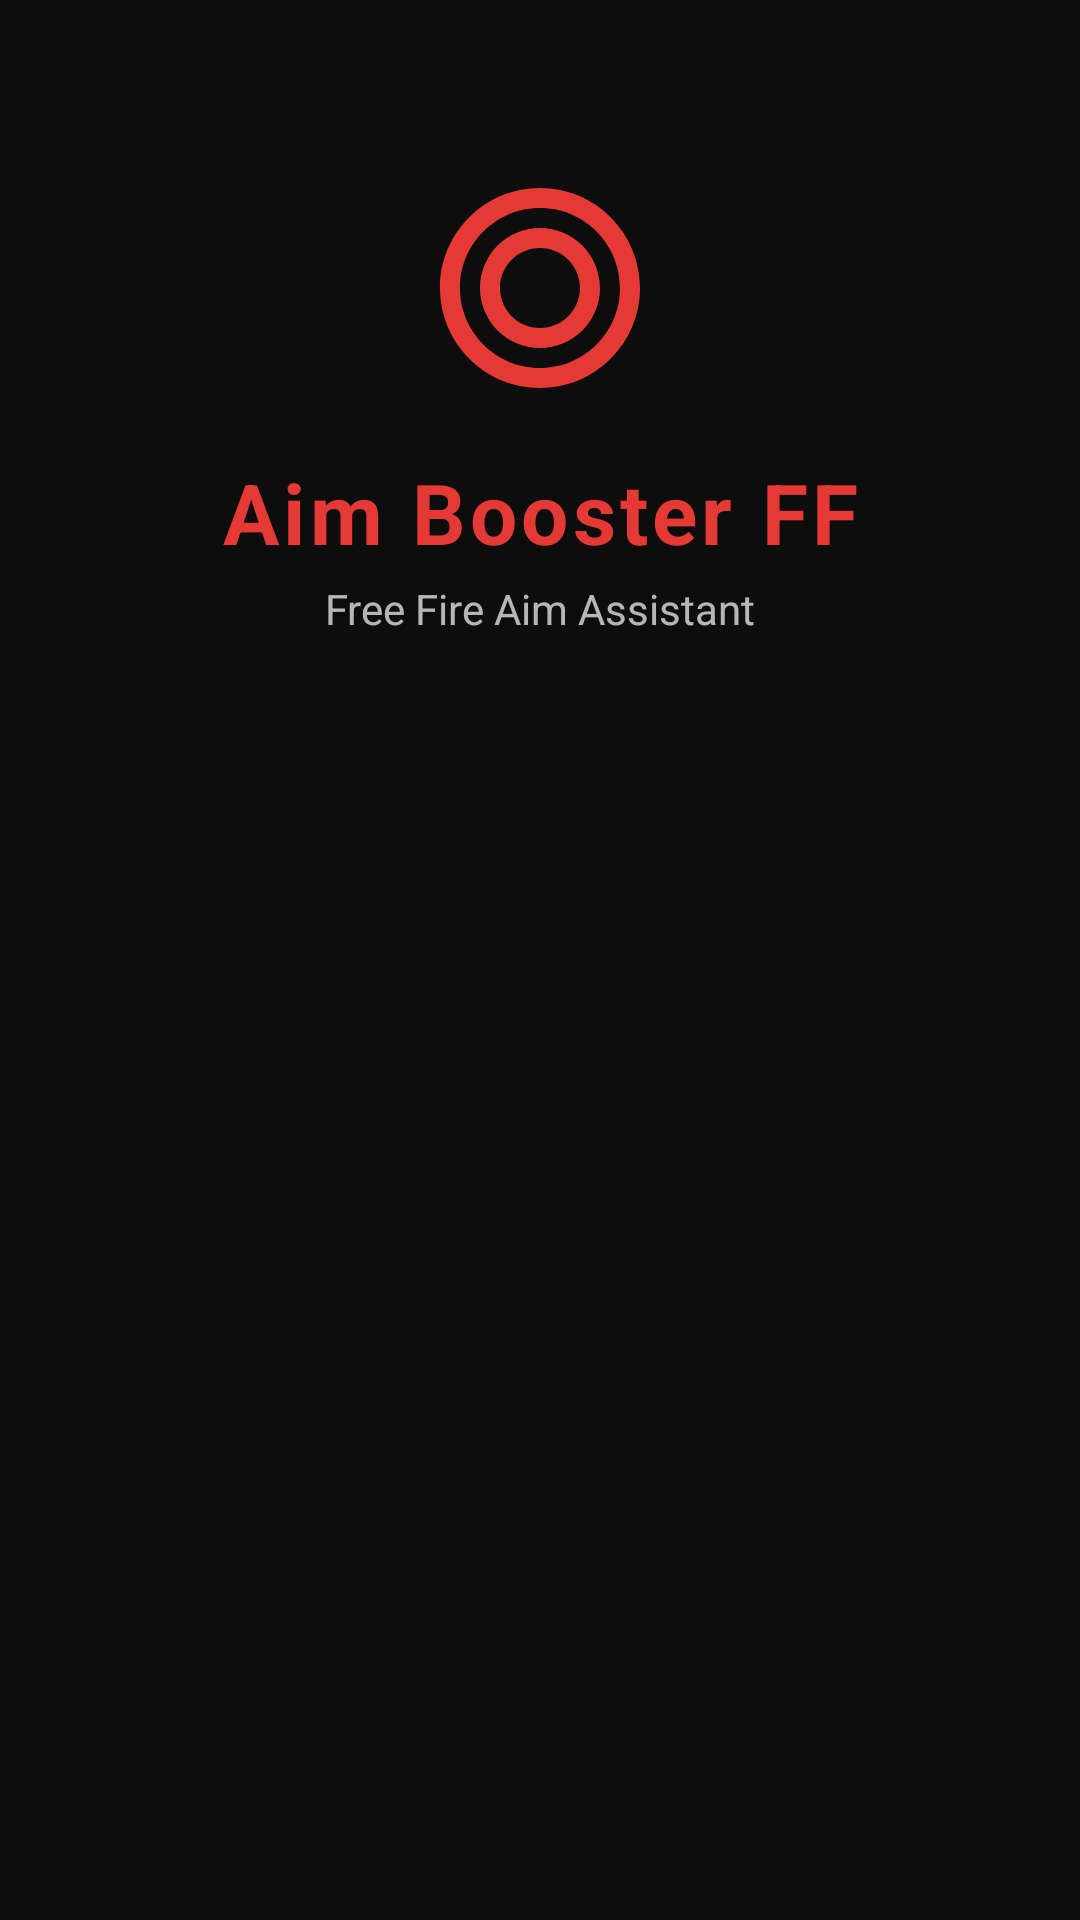

Icons on this 1080 × 1920 Android screen, each with the point to tap as (x,y):
target: (540,288)
